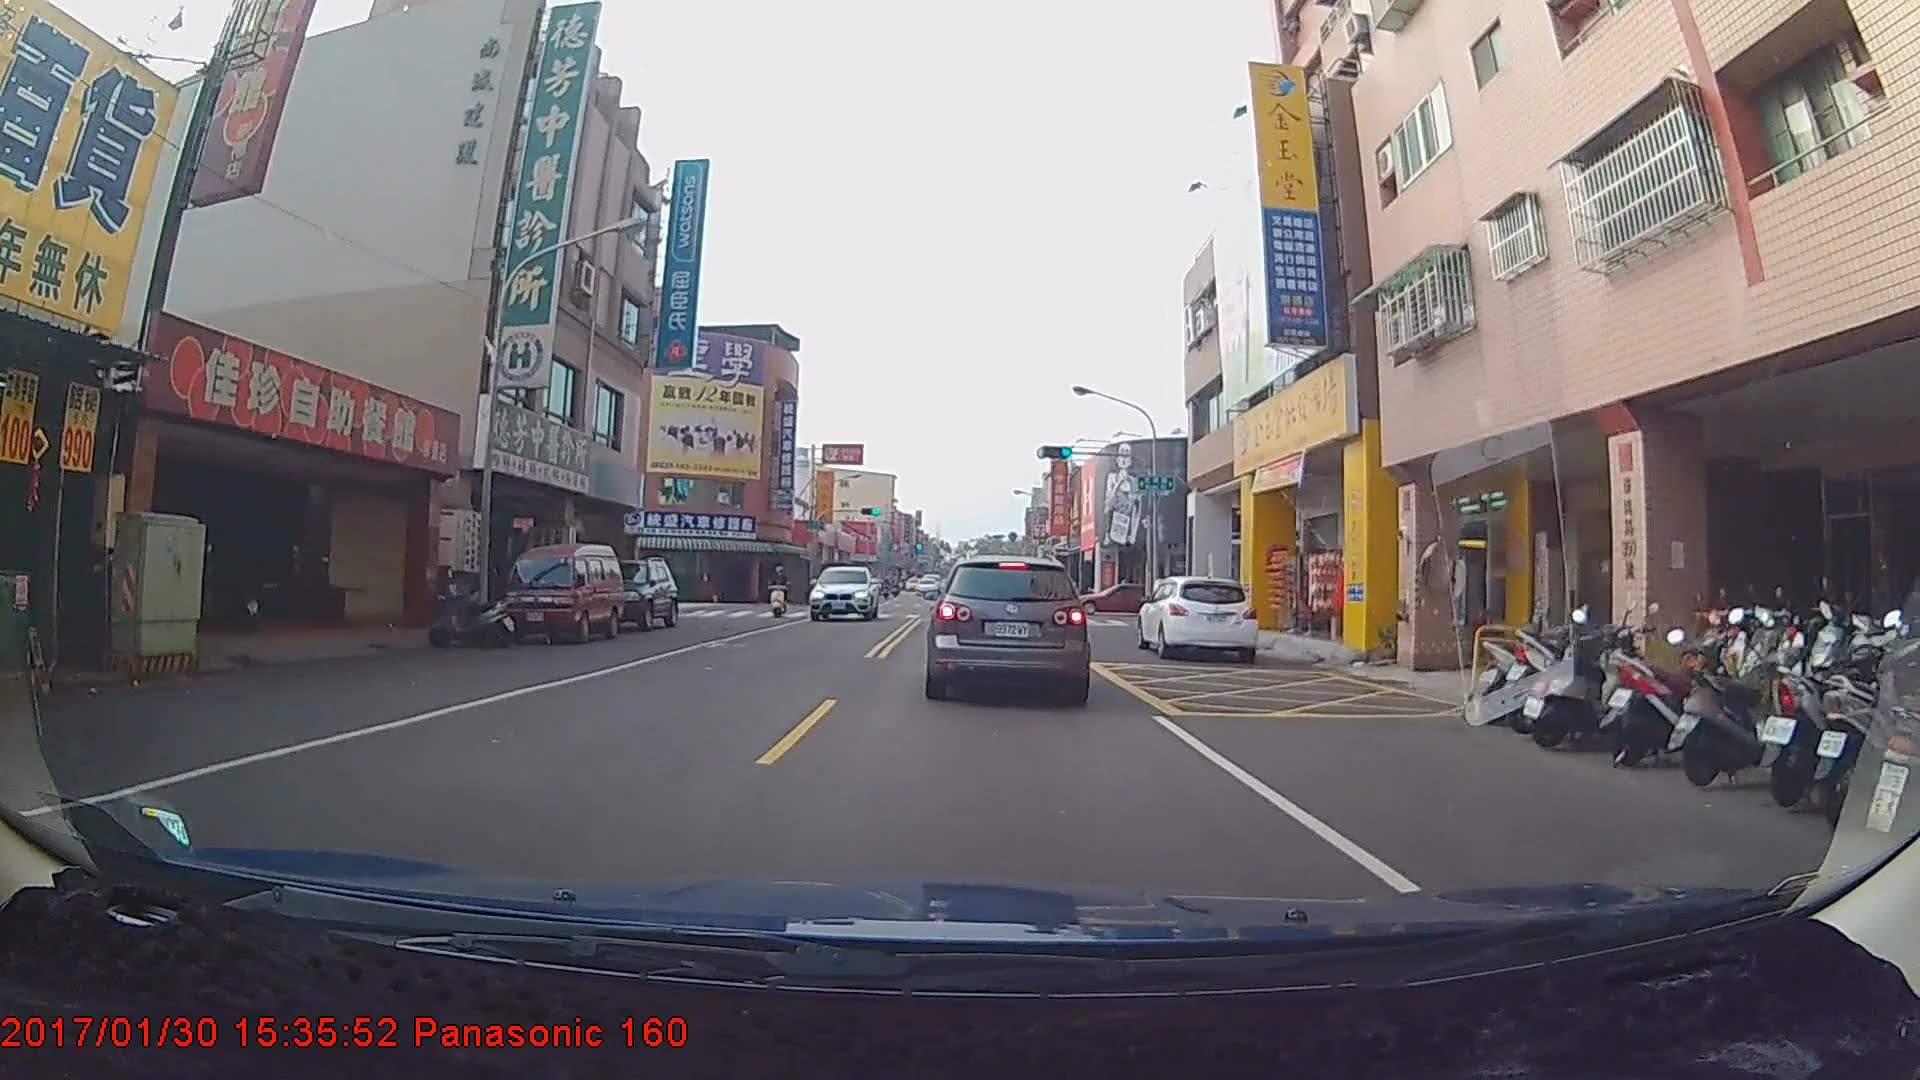rider: (765, 568, 798, 625)
vehicle: (926, 552, 1090, 701), (503, 547, 624, 647), (1137, 571, 1257, 662), (579, 553, 679, 632), (810, 563, 879, 623), (1066, 581, 1171, 612), (915, 578, 939, 598)
